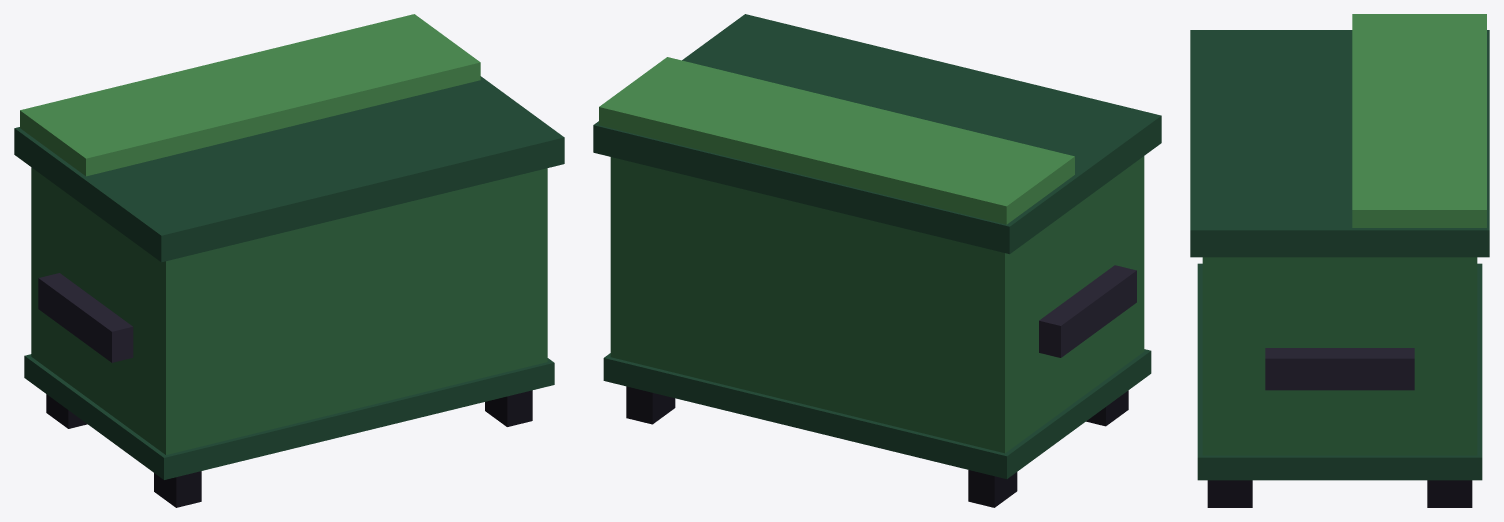
The model's file is dumpster.obj.
3 views of the same model, side by side, from view 1: azimuth 30°, elevation 25°; view 2: azimuth 150°, elevation 25°; view 3: azimuth 270°, elevation 25° (orthographic). The views are drawn at different scales.
Visible parts, largest first — view 1: dumpster; view 2: dumpster; view 3: dumpster.
Part boxes in pixels (x1,y1,x2,y2): dumpster: [14, 14, 564, 507]; dumpster: [593, 14, 1161, 507]; dumpster: [1190, 14, 1489, 507].
Bounding box in the file's own units: 2.02 × 1.36 × 1.2.
